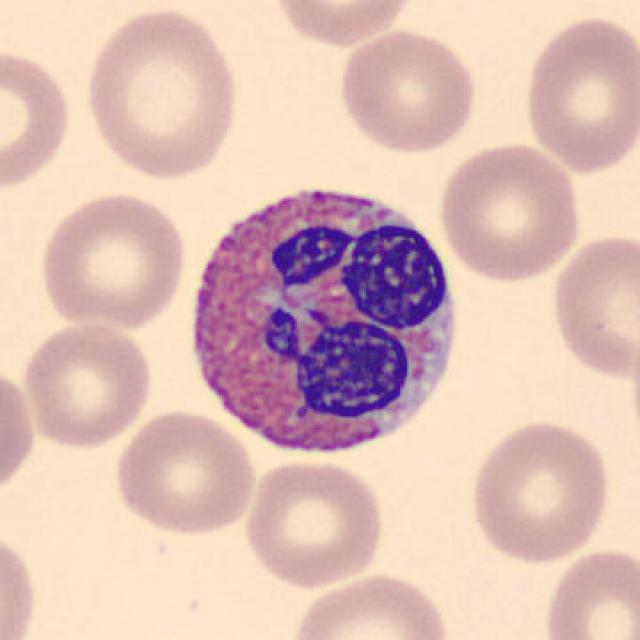Eosinophil: (175, 162, 470, 476)
RBC: (80, 3, 244, 184), (464, 416, 613, 566), (36, 188, 190, 332), (435, 139, 585, 286), (240, 455, 388, 591), (519, 11, 638, 176), (110, 407, 258, 538), (334, 26, 482, 157), (18, 318, 156, 452), (546, 228, 638, 384), (286, 569, 455, 640), (0, 40, 76, 197), (539, 545, 638, 640), (268, 0, 419, 49), (0, 359, 37, 506), (0, 525, 41, 640)
